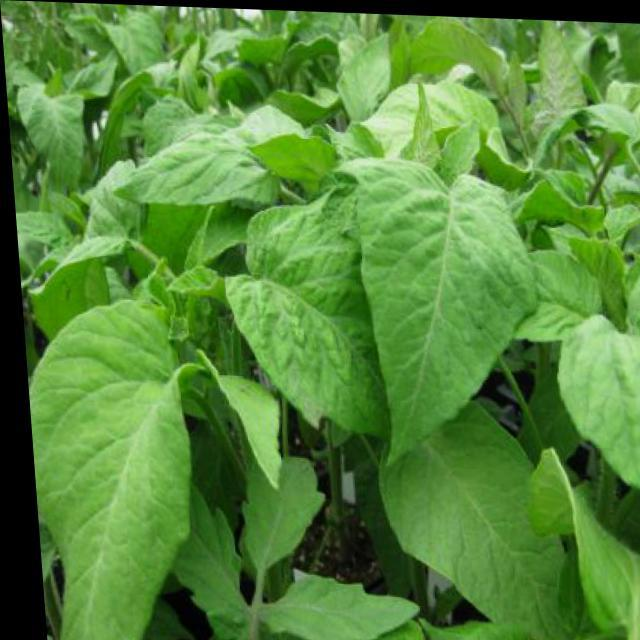Tomato bacterial spot leaf: (346, 128, 550, 470), (109, 91, 300, 210)
